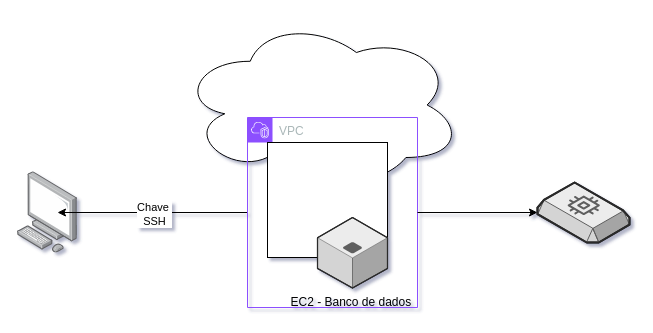
Some shapes in this 653 by 333 pixel diagram are drawn without their labels. Here are the shapes that lost their labels. From the top down, the box of each, then its label:
(17, 171, 77, 253): Usuario
(266, 142, 388, 258): Sub rede publica
